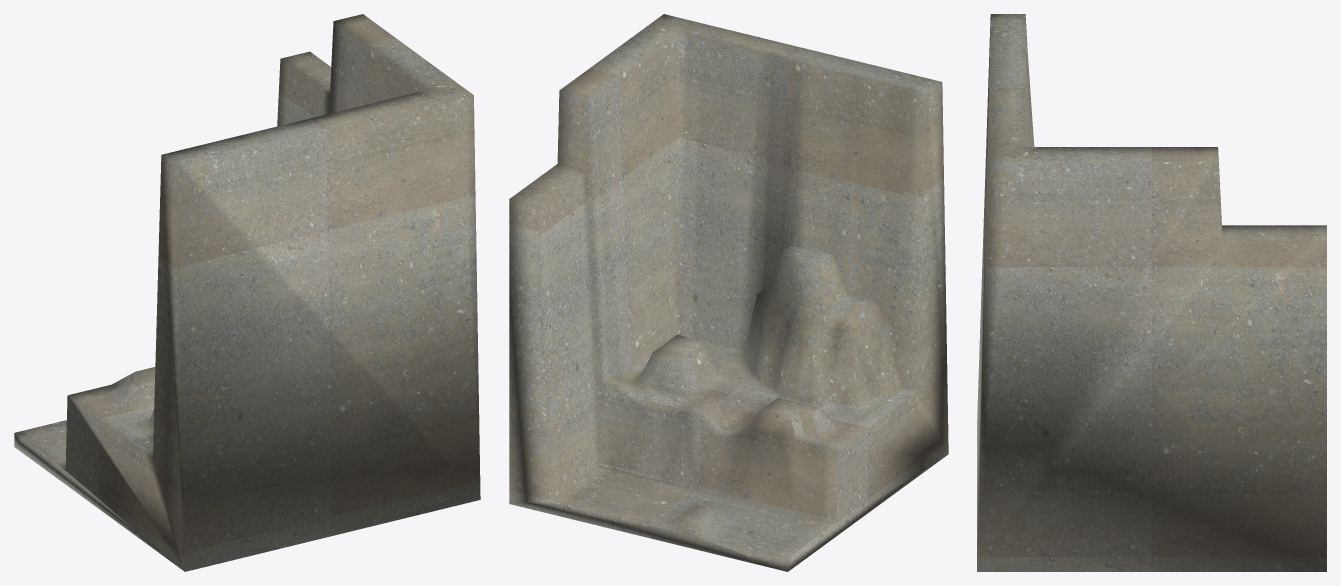
File: left.fbx
The picture shows the model from 3 angles, left to right: view 1: azimuth 30°, elevation 25°; view 2: azimuth 150°, elevation 25°; view 3: azimuth 270°, elevation 25°; orthographic projection. The views are drawn at different scales.
Visible parts, largest first — view 1: Model; view 2: Model; view 3: Model.
Boxes of the visible parts, bbox=[...] form: Model: bbox=[14, 14, 480, 571]; Model: bbox=[509, 14, 948, 571]; Model: bbox=[977, 14, 1326, 571].
Bounding box in the file's own units: 1000 × 1293 × 1000.
